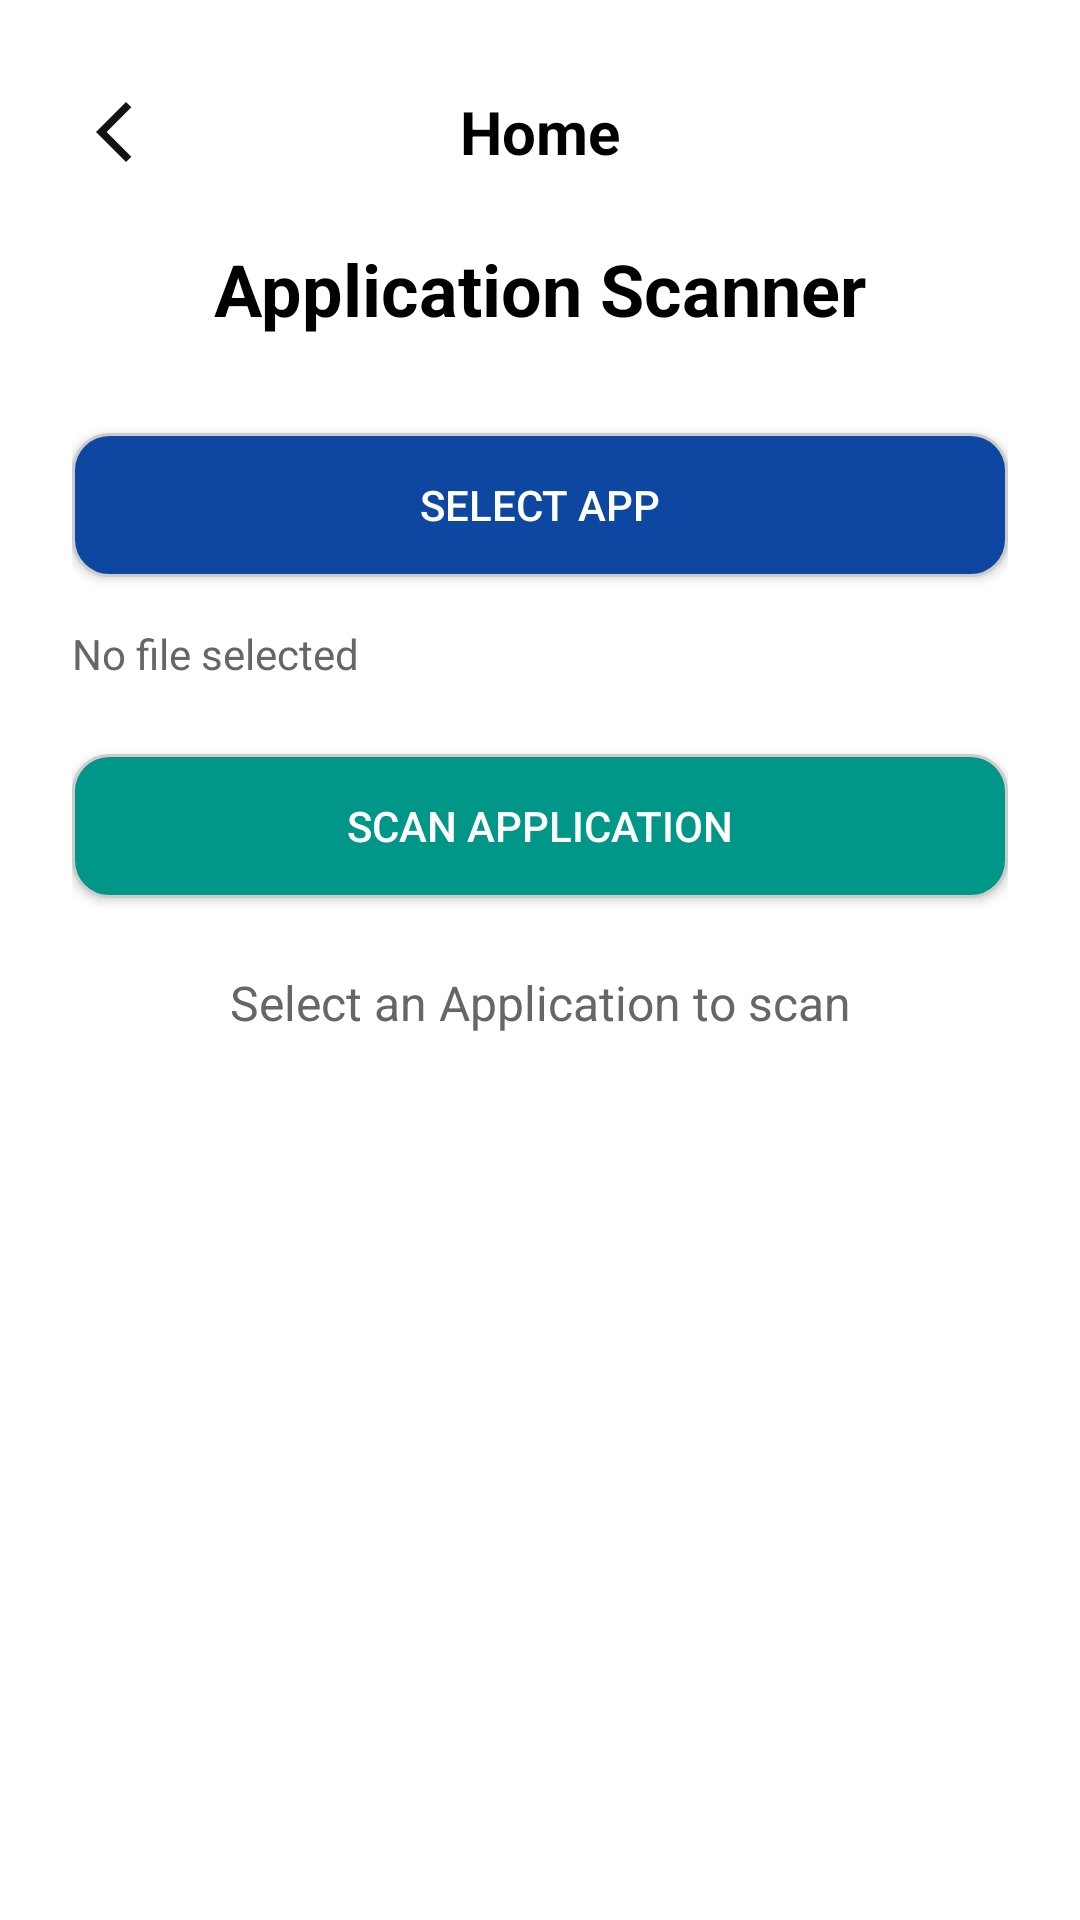

Icons on this 1080px x 1920px Android screen, each with its box as region(x1, y1, x2, y2):
arrow back: region(96, 102, 131, 162)
